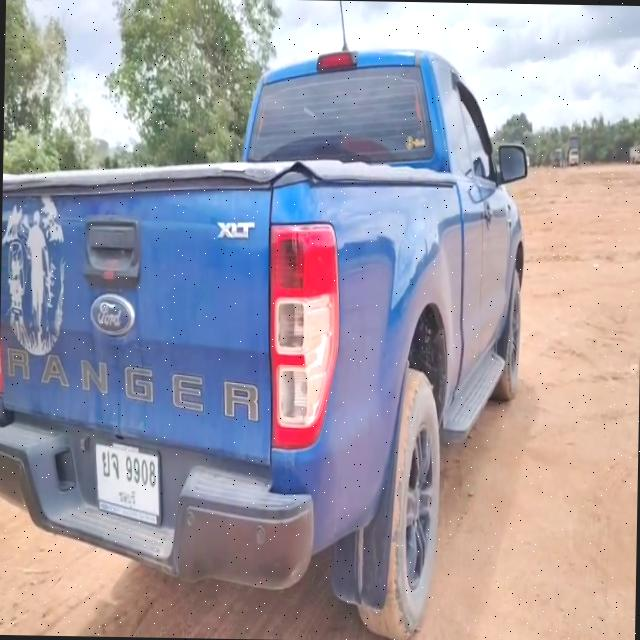Digit: (124, 452, 156, 486)
Licenseplate: (93, 439, 161, 530)
Provincename: (118, 486, 136, 507)
Thaichar: (100, 448, 120, 478)
